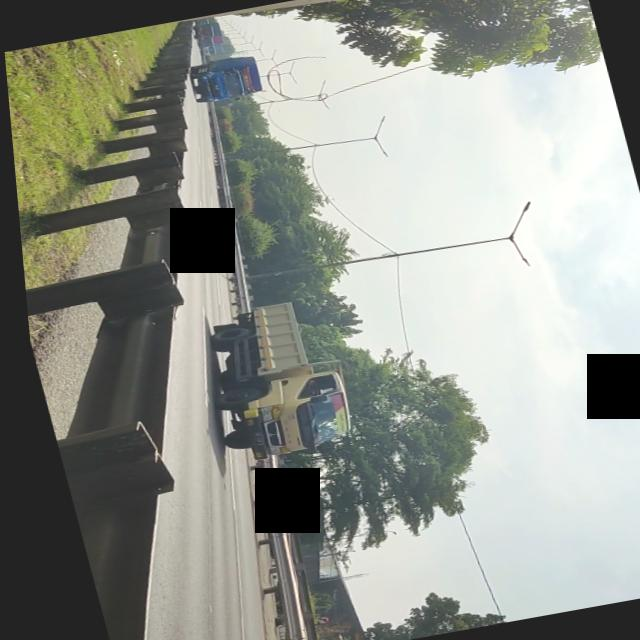Golongan II: (180, 294, 358, 470)
